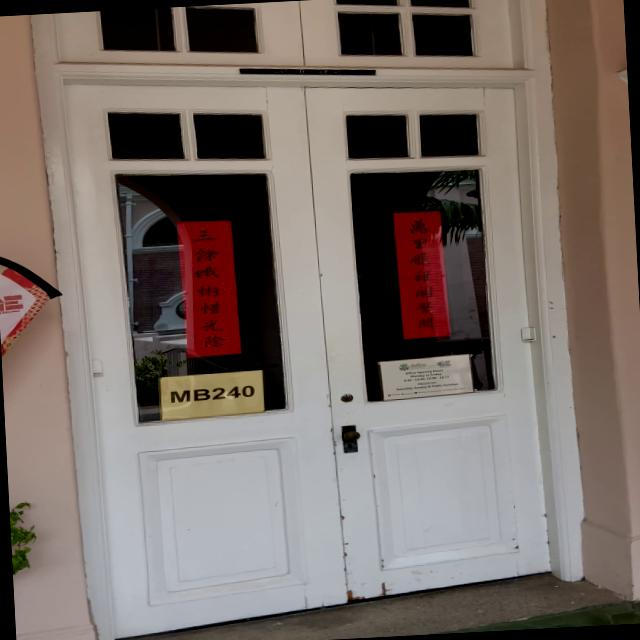room240: (164, 379, 266, 410)
